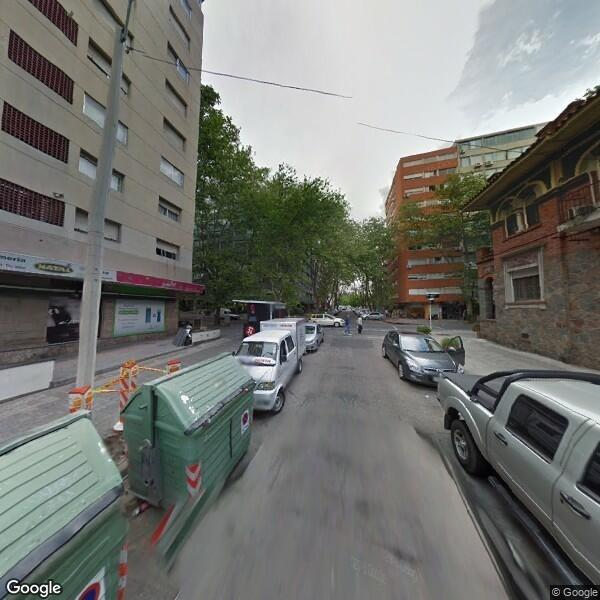Trash: (0, 406, 127, 599), (120, 351, 254, 526)
